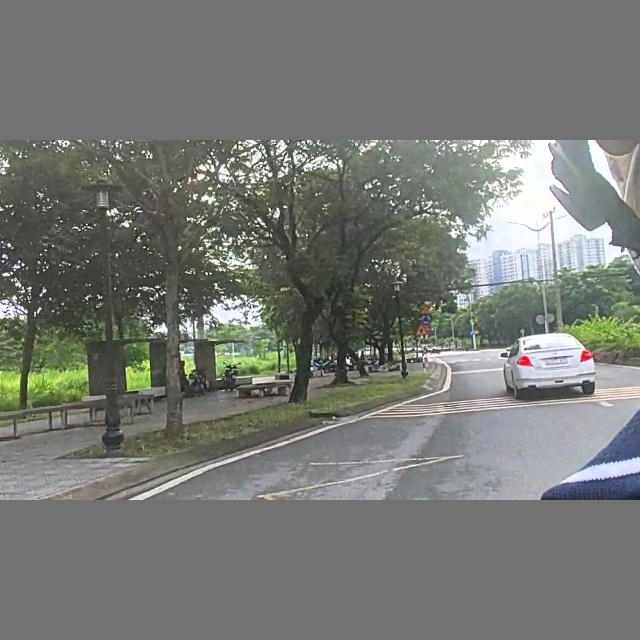P.102: (474, 328, 480, 335)
R.302a: (469, 330, 474, 336)
R.303: (421, 315, 431, 324)
W.207: (415, 325, 428, 336)
